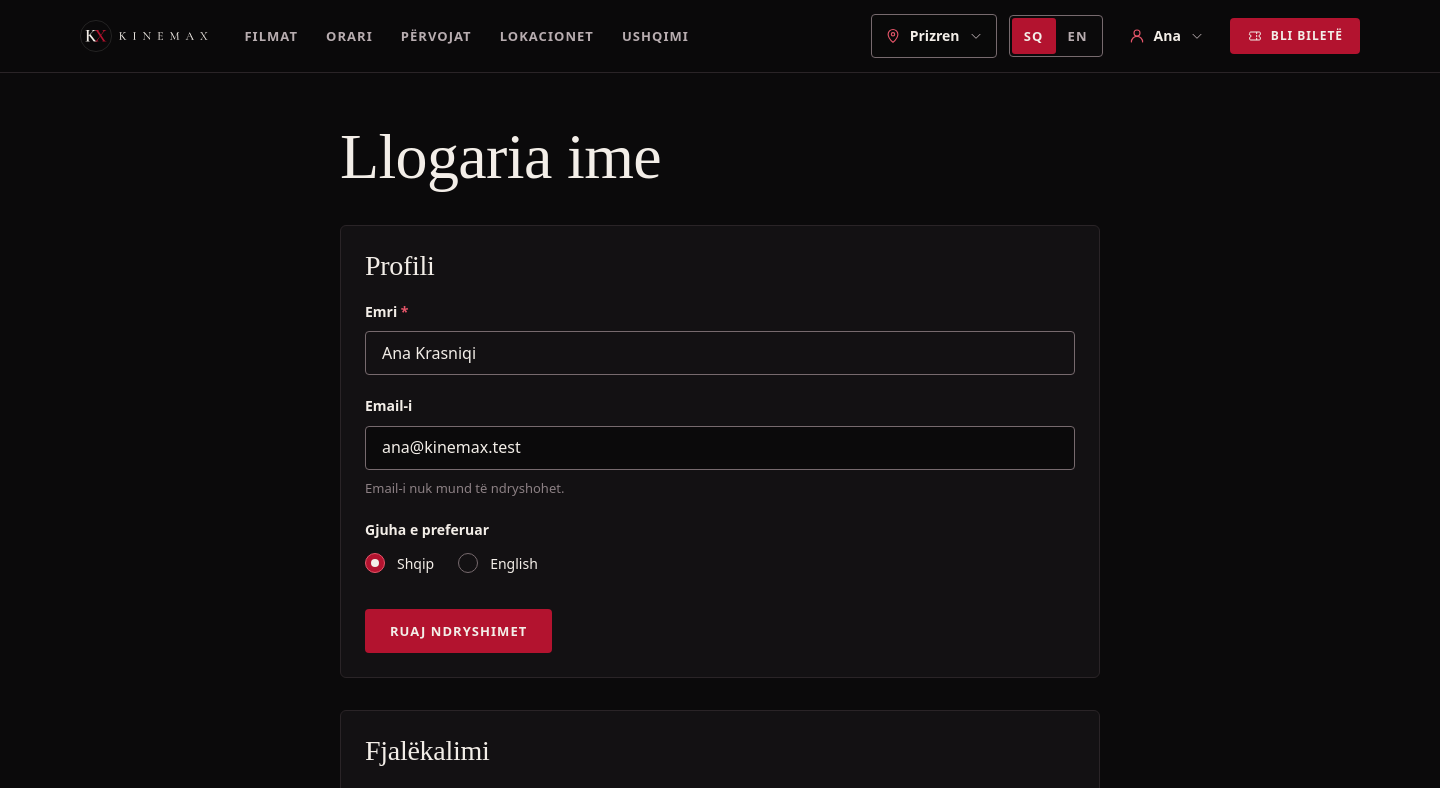
Test: AccountPage and the header › edits the profile, changes the password and signs out everywhere
Expected: the heading "Llogaria ime" is shown, [340,121,661,192]
Replace the text in the field labelled "Emri *" with "Ana K.": (720, 353) [365,331,1075,375]
Click the radio button labelled "English": (468, 563) [458,553,478,573]
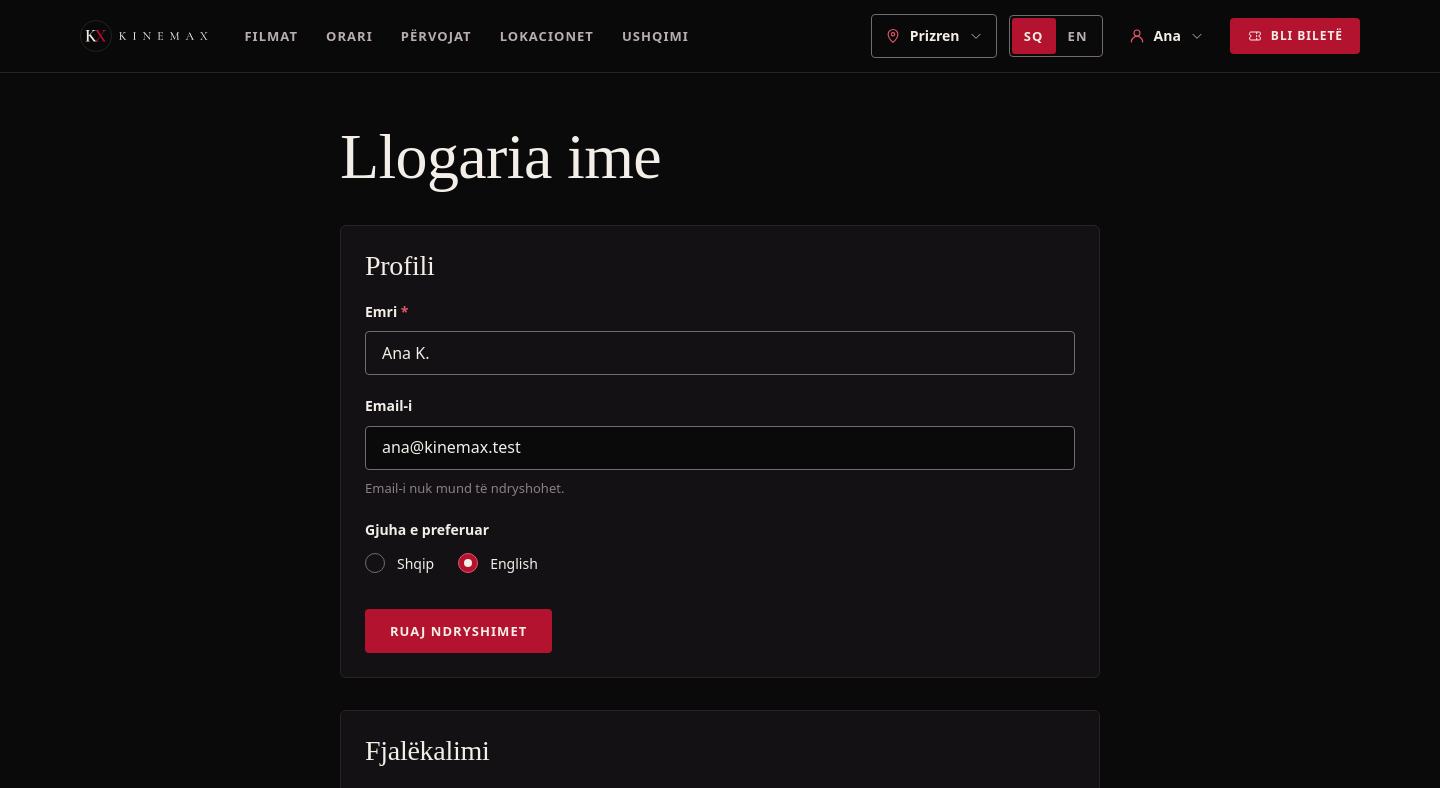
Click the button "Ruaj ndryshimet": (459, 631) [365,609,552,653]
(page scrolled)
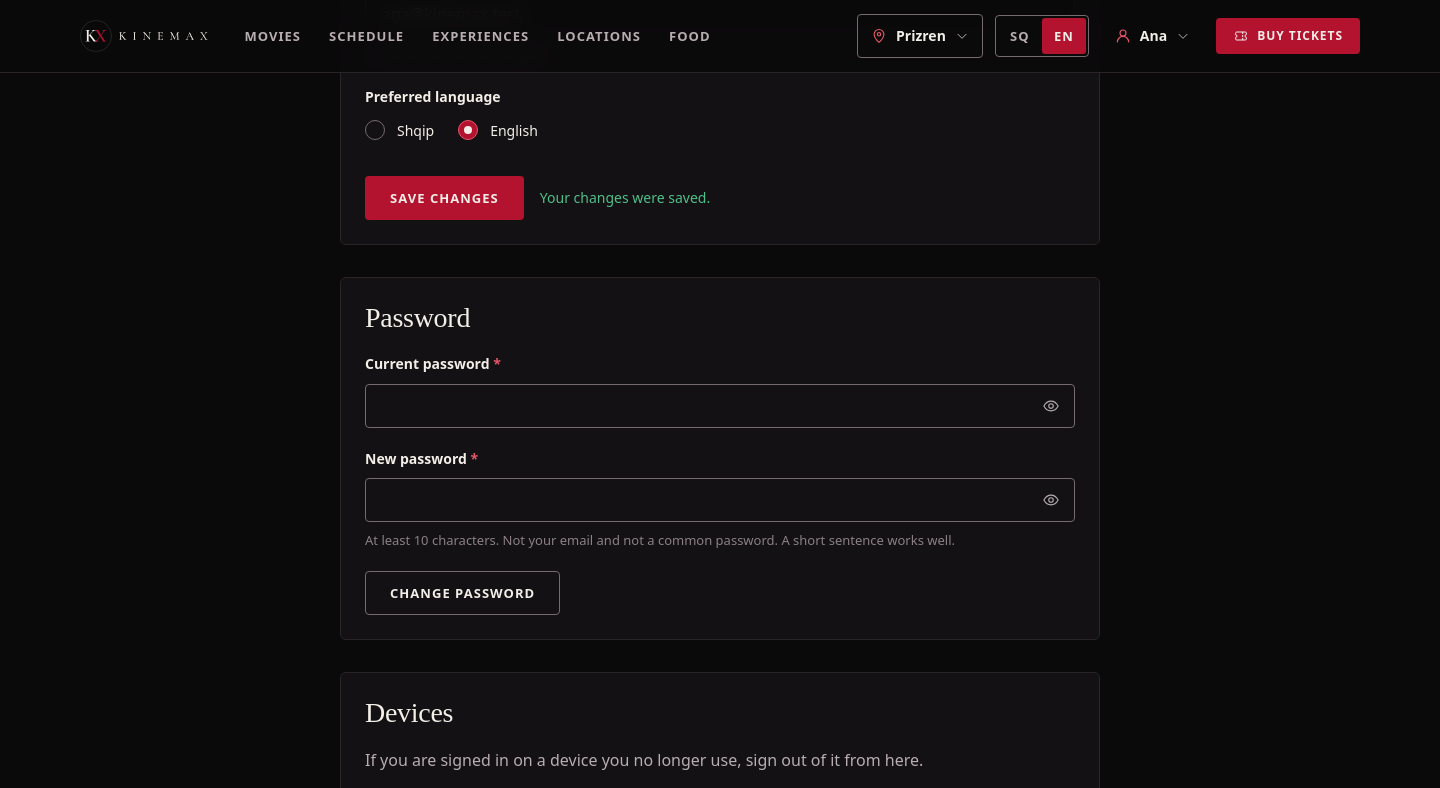
Now the text "Your changes were saved." is shown, box [540,187,710,209]
In the password field labelled "Current password *": (720, 406) [365,384,1075,428], type "old-password-1"
In the password field labelled "New password *": (720, 500) [365,478,1075,522], type "old-password-1"
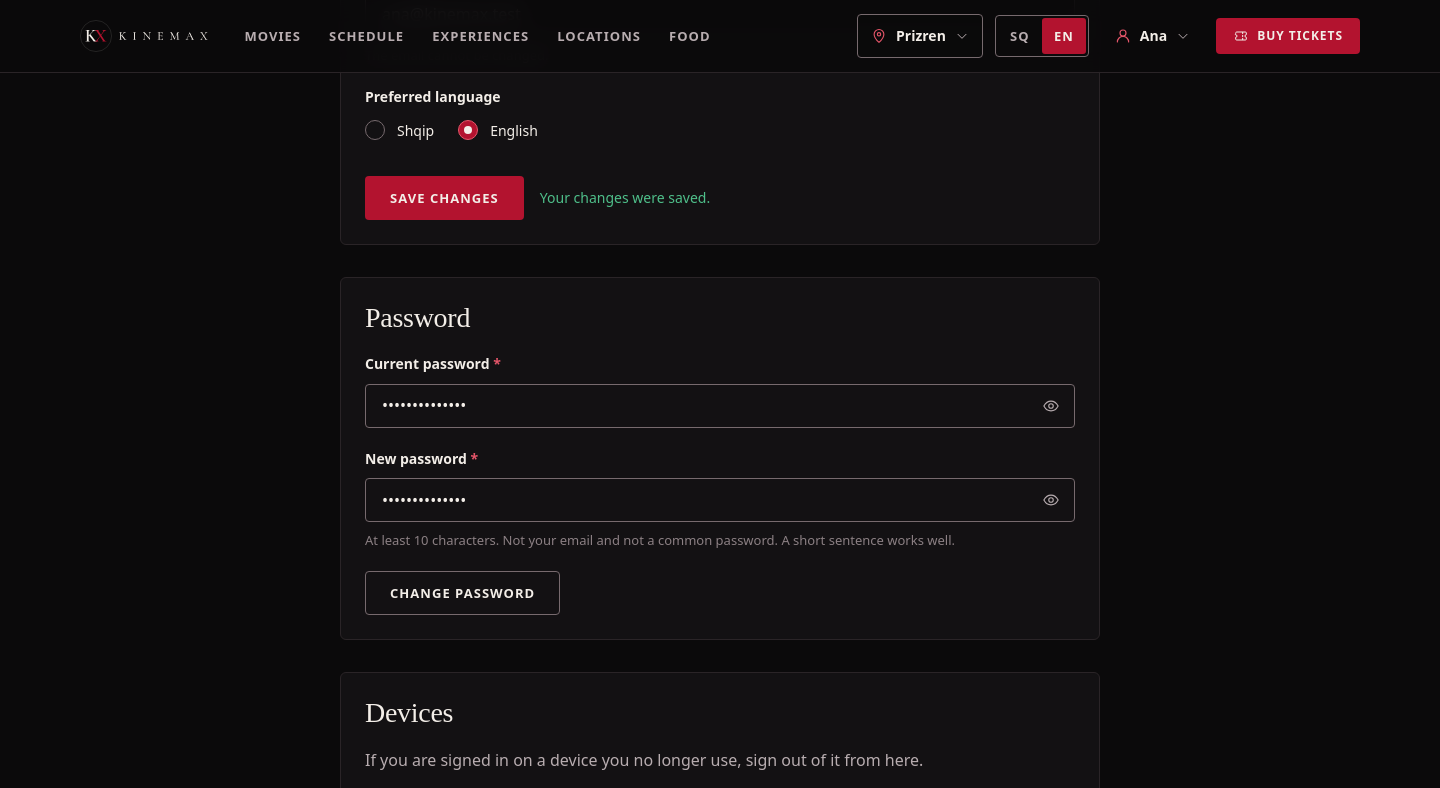
Click the button "Change password": (463, 593) [365,571,560,615]
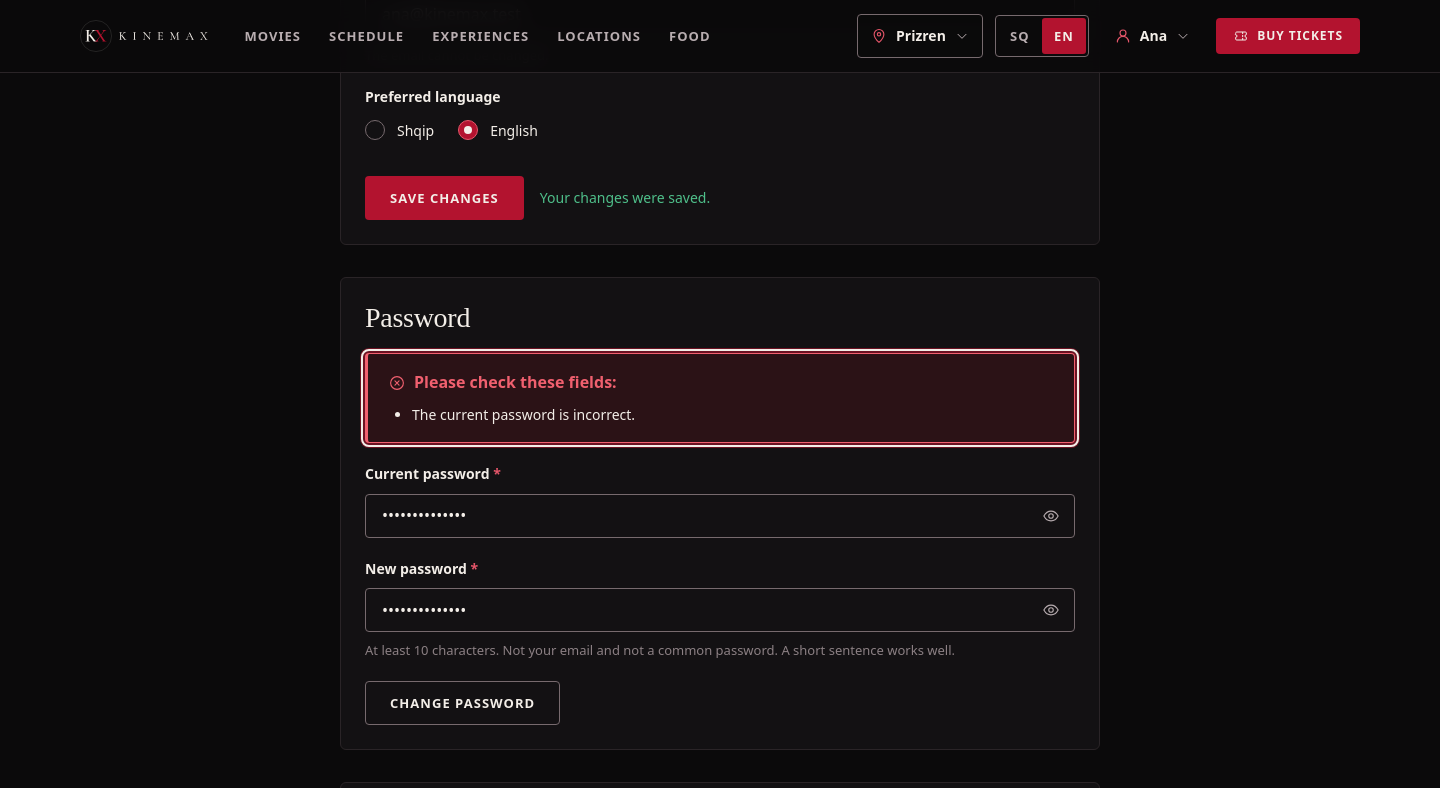
Now the list item "The current password is incorrect." is shown, box [412,405,635,424]
Click the button "Change password": (463, 703) [365,681,560,725]
(page scrolled)
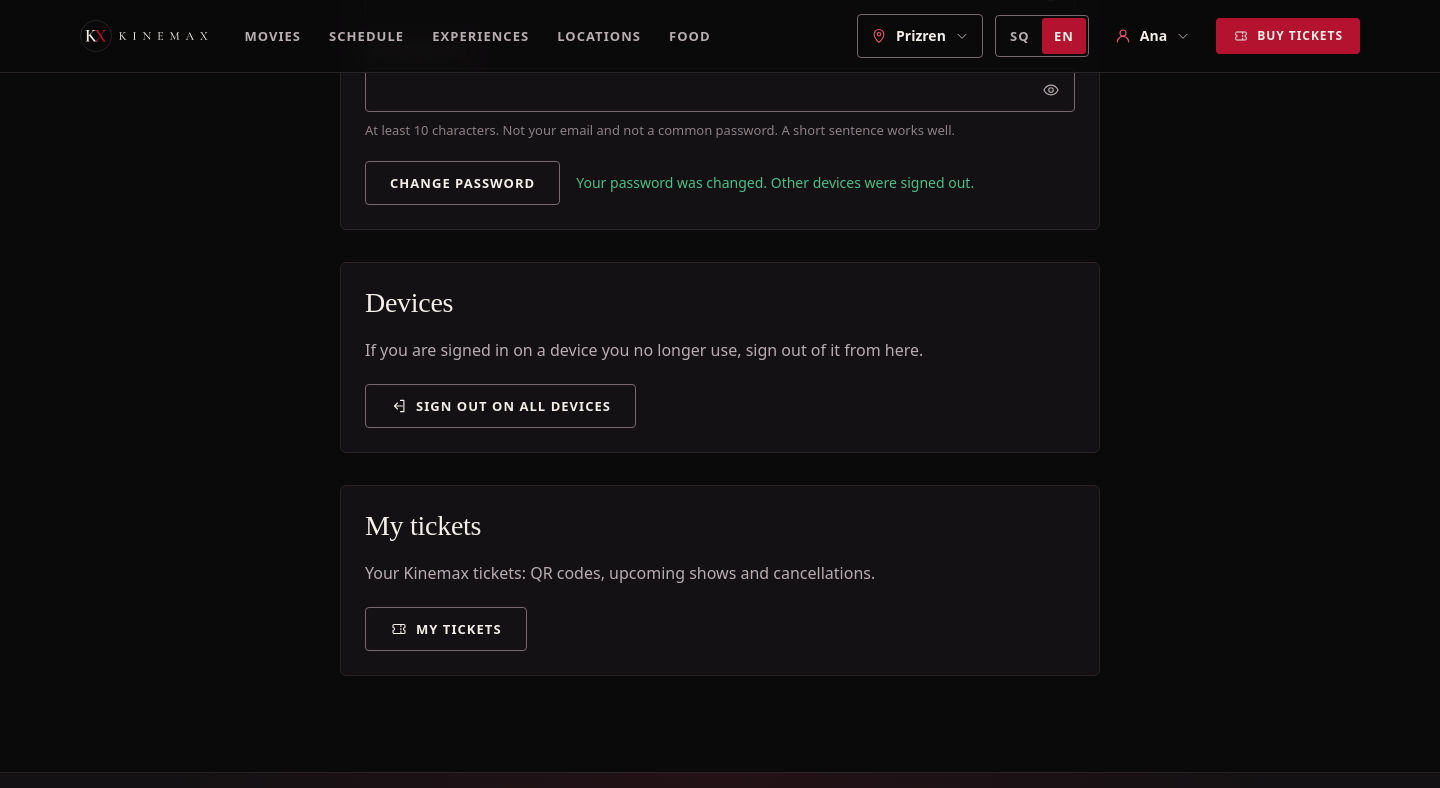
Now the text "Your password was changed. Other devices were signed out." is shown, box [576,172,974,194]
Click the button "Sign out on all devices": (501, 406) [365,384,636,428]
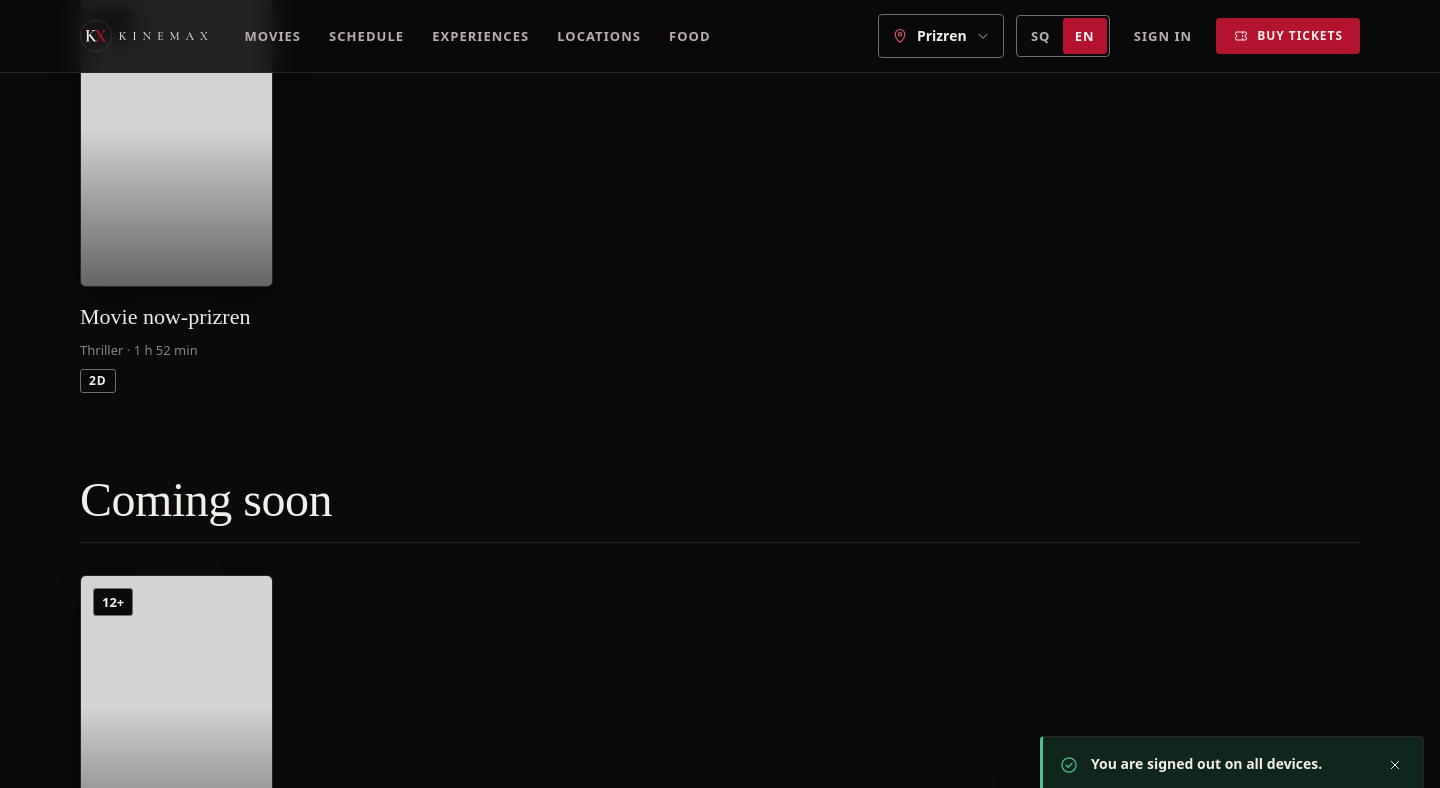
Now the link "Sign in" is shown, box [1134,27,1192,45]
